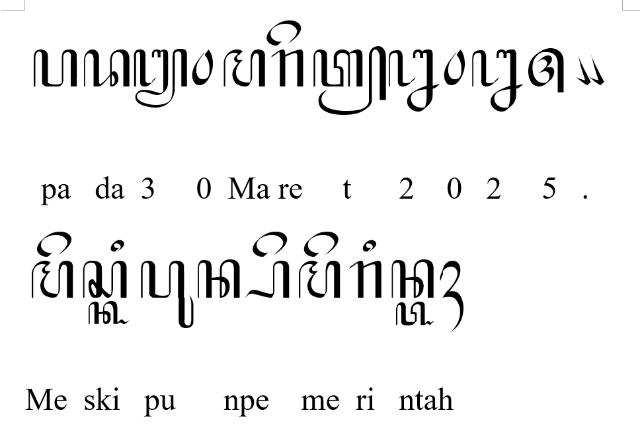-t: (312, 46, 386, 116)
0: (191, 48, 213, 86), (444, 50, 466, 86)
5: (528, 48, 564, 94)
_h1: (440, 260, 464, 334)
_k: (88, 302, 130, 326)
_p: (244, 261, 290, 299)
_t: (395, 302, 435, 326)
d: (84, 49, 130, 87)
e: (266, 18, 302, 46), (252, 231, 288, 258), (36, 232, 72, 258), (304, 231, 338, 257)
i: (110, 239, 126, 253), (361, 240, 377, 252)
kom: (575, 56, 591, 84), (590, 54, 604, 86)
m: (223, 48, 267, 88), (31, 260, 73, 300), (298, 261, 342, 299)
n: (390, 259, 436, 299), (197, 260, 240, 298)
ngna: (388, 47, 440, 111), (471, 47, 523, 111)
ngya: (132, 48, 188, 108)
p: (32, 48, 78, 88)
pu: (140, 261, 194, 329)
r: (270, 49, 304, 87), (348, 260, 382, 298)
s: (82, 262, 128, 298)
